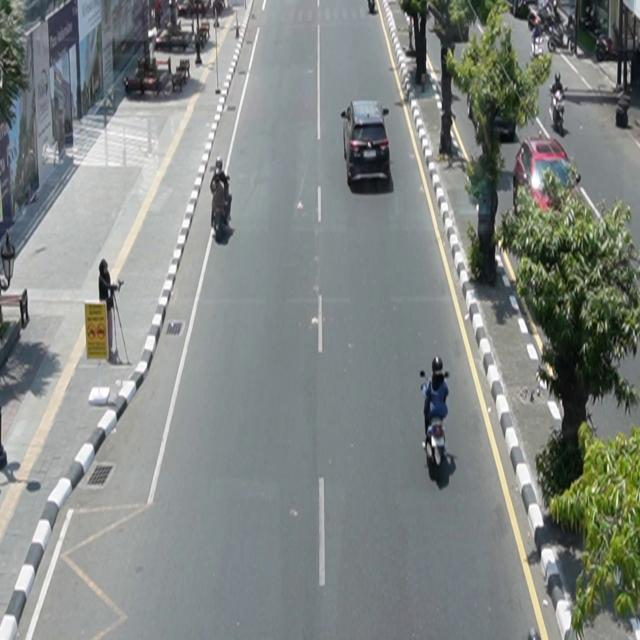car: (514, 137, 582, 220), (341, 100, 391, 187)
